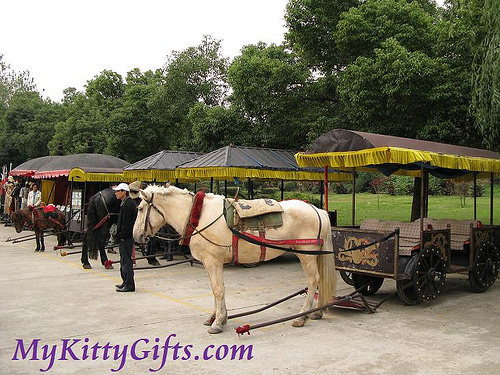horse: (131, 185, 337, 337), (9, 204, 68, 253)
